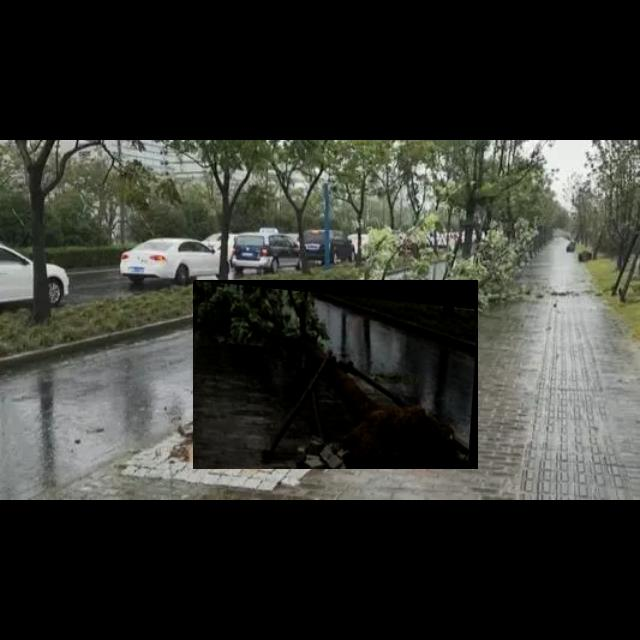Fallen Tree: (193, 280, 479, 470)
